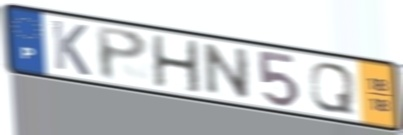5: (255, 49, 304, 109)
H: (149, 33, 204, 96)
K: (49, 17, 93, 78)
N: (202, 41, 252, 101)
P: (93, 24, 151, 83)
Q: (307, 60, 357, 116)
